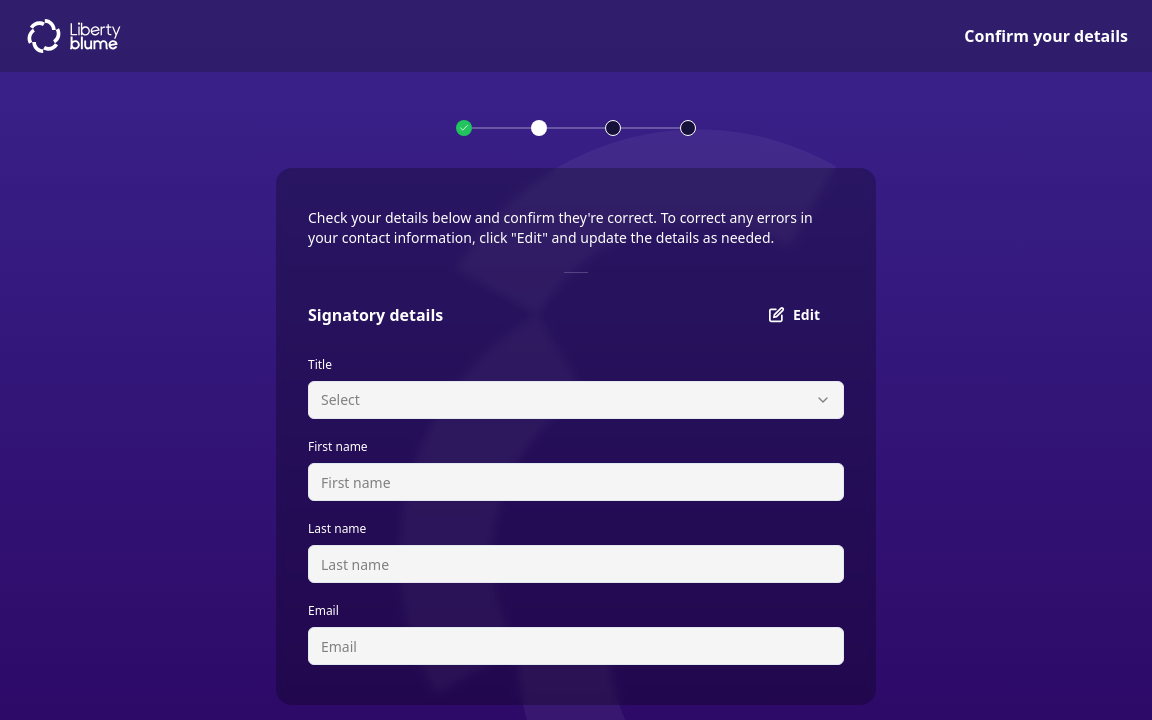
Test: ConfirmDetails › edit mode toggle › changes Next button to "Save and Next" in edit mode
The width and height of the screenshot is (1152, 720).
Click the button "Edit" at (794, 315), box [745, 297, 844, 333]
(page scrolled)
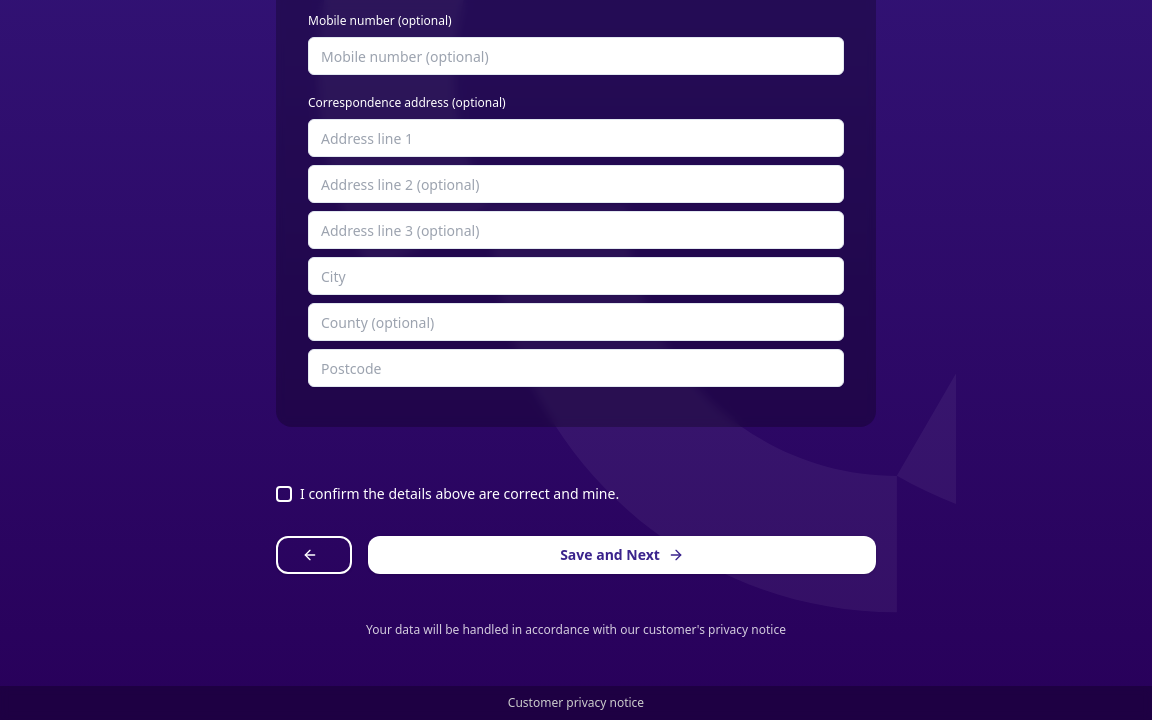
Check: the button "Save and Next" is shown, box [368, 536, 876, 574]
